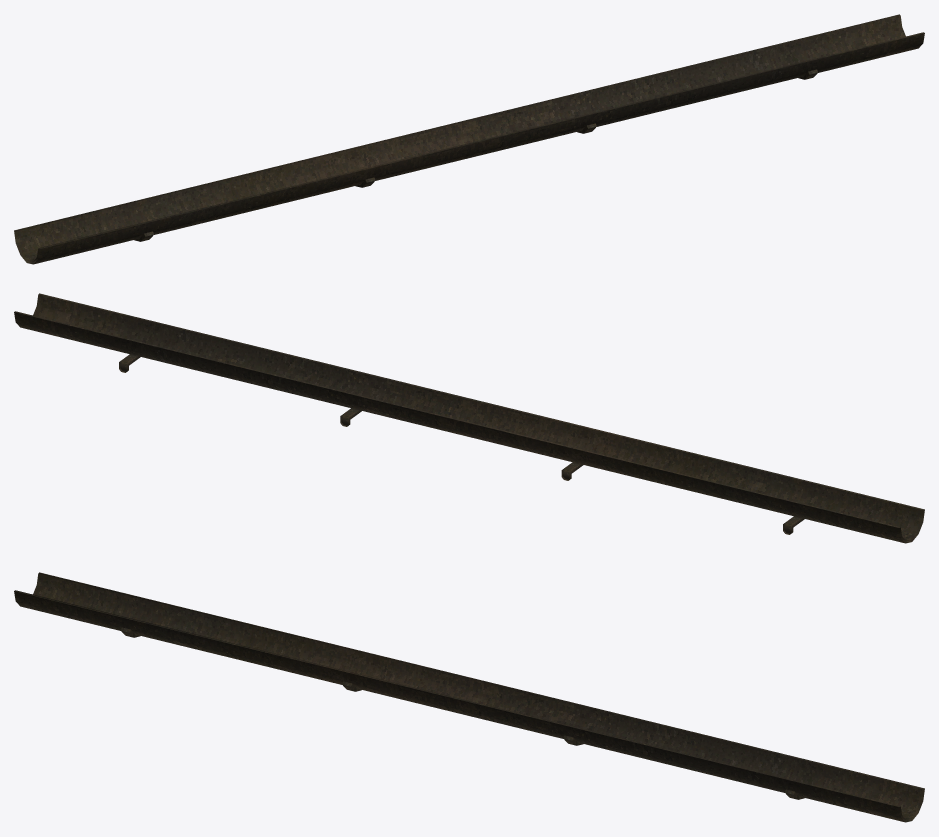
File: rainwater_pipe_hl_1_middle.glb
3 renders of one model, top to bottom at view 1: azimuth 30°, elevation 25°; view 2: azimuth 150°, elevation 25°; view 3: azimuth 330°, elevation 25°, orthographic.
Visible parts, largest first — view 1: rainwater_pipe_hl_1_middle; view 2: rainwater_pipe_hl_1_middle; view 3: rainwater_pipe_hl_1_middle.
Part boxes in pixels (bbox=[...]): rainwater_pipe_hl_1_middle: bbox=[14, 14, 924, 264]; rainwater_pipe_hl_1_middle: bbox=[14, 293, 924, 543]; rainwater_pipe_hl_1_middle: bbox=[14, 572, 924, 822].
Bounding box in the file's own units: 4 × 0.14 × 0.21.
1 material, 1 textured.
